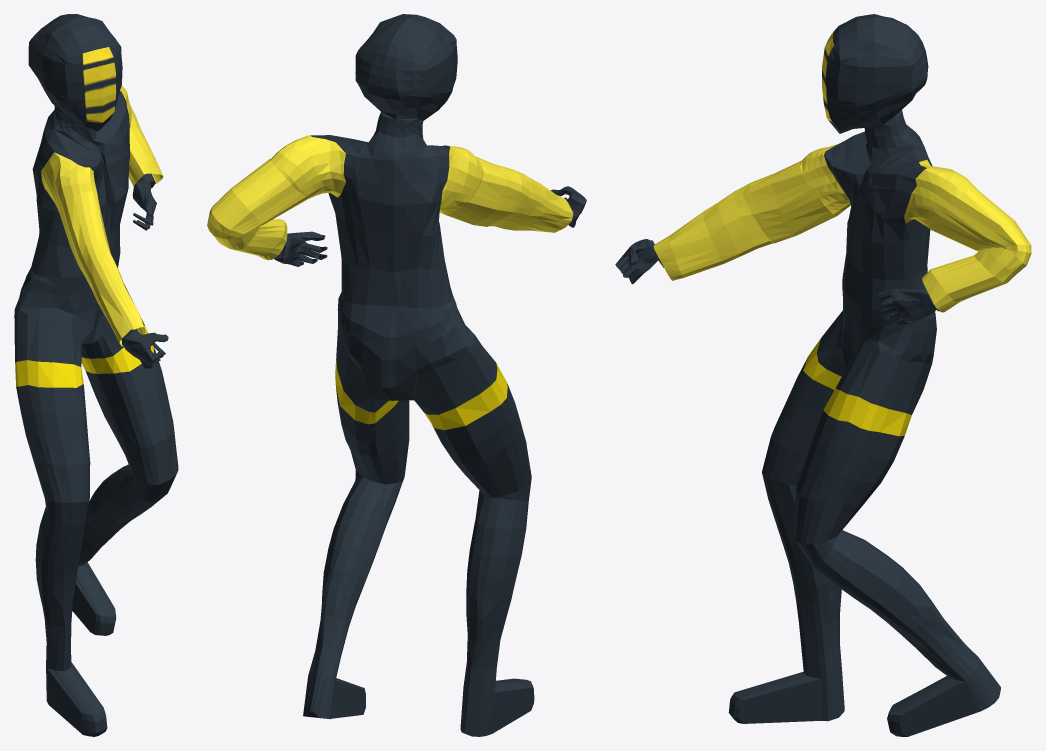
File: Sentry_WB_000020.obj
3 renders of one model, left to right at view 1: azimuth 30°, elevation 25°; view 2: azimuth 150°, elevation 25°; view 3: azimuth 270°, elevation 25°, orthographic. The views are drawn at different scales.
Visible parts, largest first — view 1: Cube; view 2: Cube; view 3: Cube.
Part boxes in pixels (<box>): Cube: <box>14,14,178,736</box>; Cube: <box>207,14,586,736</box>; Cube: <box>615,14,1031,736</box>.
Bounding box in the file's own units: 1.17 × 3.81 × 1.98.
